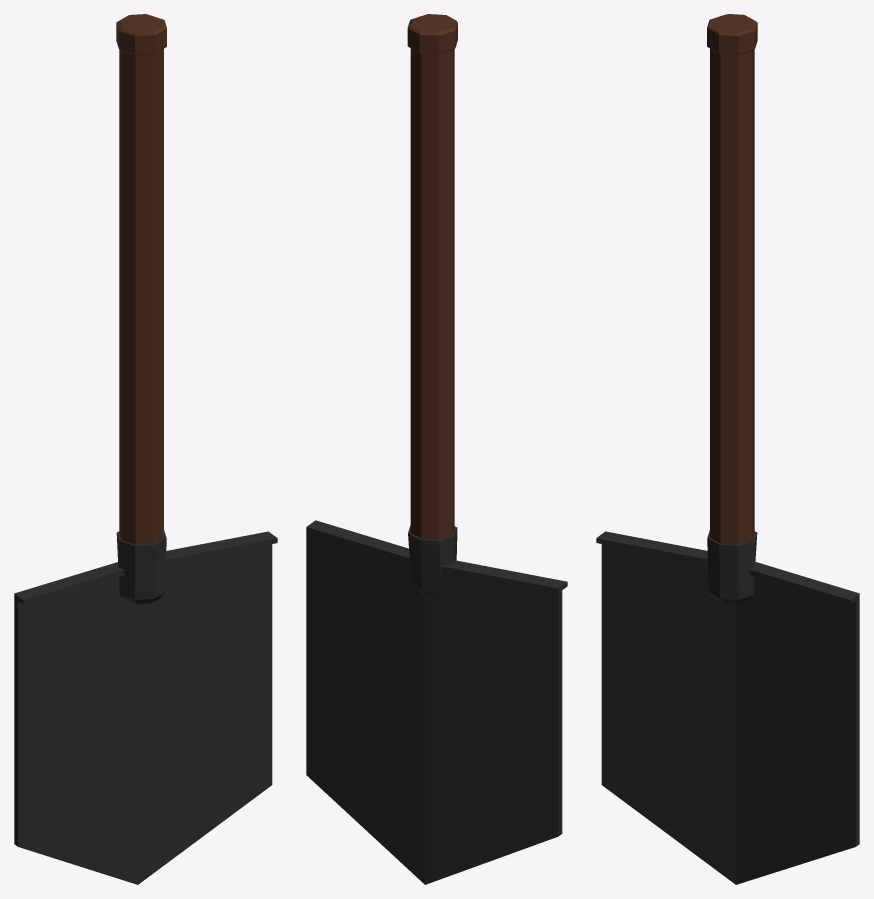
Rendered from Sapper_Spade_vc.fbx.
3 views of the same model, side by side, from view 1: azimuth 30°, elevation 25°; view 2: azimuth 150°, elevation 25°; view 3: azimuth 330°, elevation 25° (orthographic).
Visible parts, largest first — view 1: Sapper_Spade_vc; view 2: Sapper_Spade_vc; view 3: Sapper_Spade_vc.
Part boxes in pixels (<box>): Sapper_Spade_vc: <box>14,14,277,884</box>; Sapper_Spade_vc: <box>306,14,567,884</box>; Sapper_Spade_vc: <box>596,14,859,884</box>.
Bounding box in the file's own units: 20.77 × 67.42 × 3.72.
